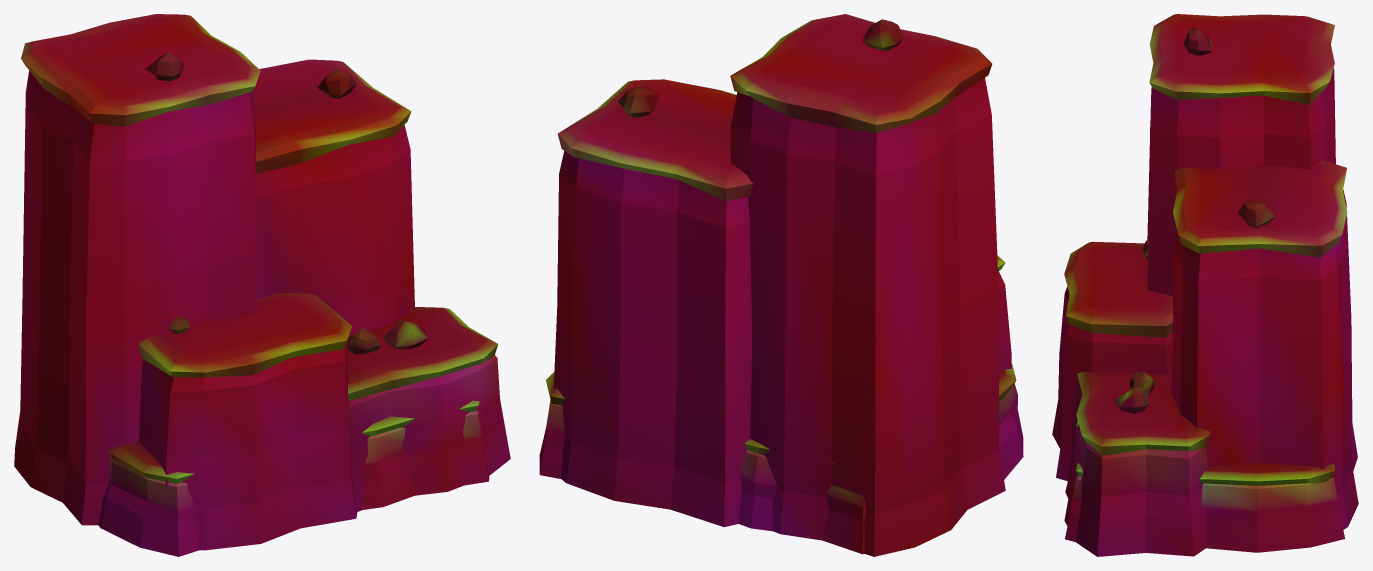
Rendered from Cliff_Cluster_Tall.fbx.
3 renders of one model, left to right at view 1: azimuth 30°, elevation 25°; view 2: azimuth 150°, elevation 25°; view 3: azimuth 270°, elevation 25°, orthographic. The views are drawn at different scales.
Visible parts, largest first — view 1: Cliff_Cluster_Tall; view 2: Cliff_Cluster_Tall; view 3: Cliff_Cluster_Tall.
Part boxes in pixels (x1,y1,x2,y2): Cliff_Cluster_Tall: [14, 14, 510, 556]; Cliff_Cluster_Tall: [539, 14, 1023, 556]; Cliff_Cluster_Tall: [1052, 14, 1358, 556].
Bounding box in the file's own units: 6.84 × 7.33 × 5.09.
